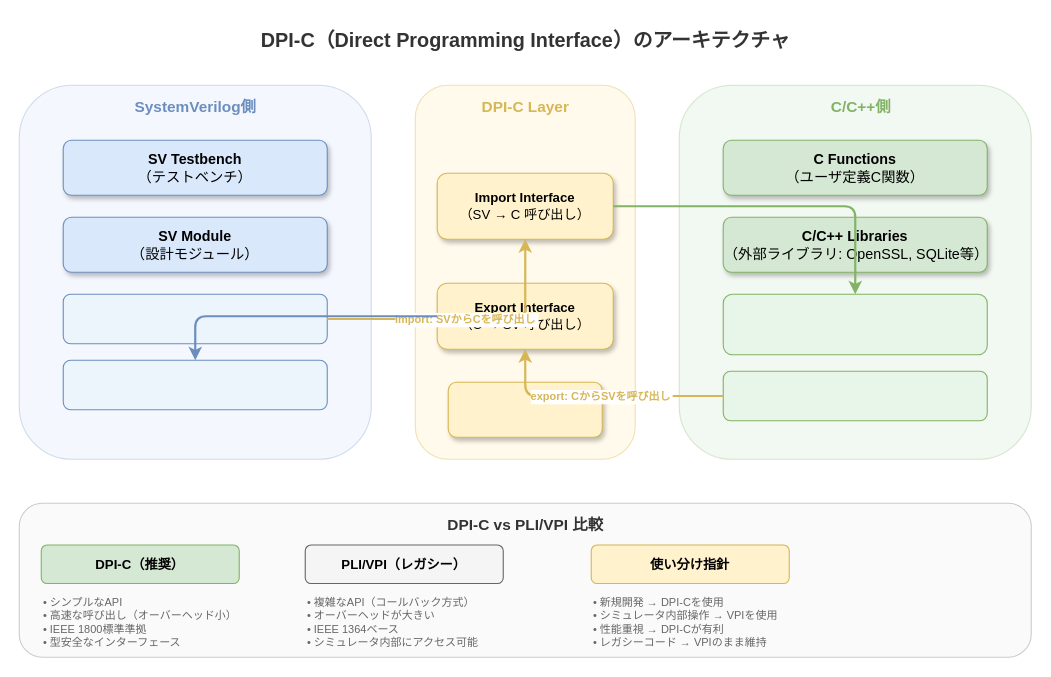
Image size: 1051x677. Some labels were removed from this diagram. Each missing label, with the centre of its shape:
export "DPI-C" function void sv_callback();: (x=194, y=384)
extern void sv_callback(); // C側から呼び出し可能: (x=854, y=395)
import "DPI-C" function int c_calc(int a);: (x=194, y=318)
int c_calc(int a) { return a * 2; }: (x=854, y=324)
svdpi.h 標準ヘッダファイル: (x=526, y=411)
